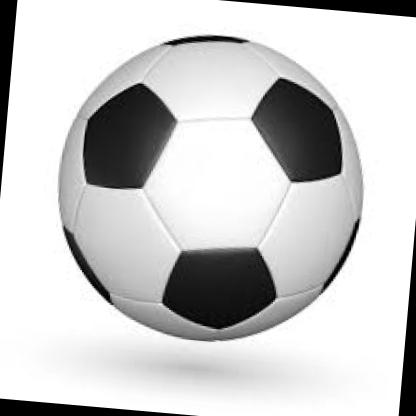ball: (43, 23, 380, 354)
